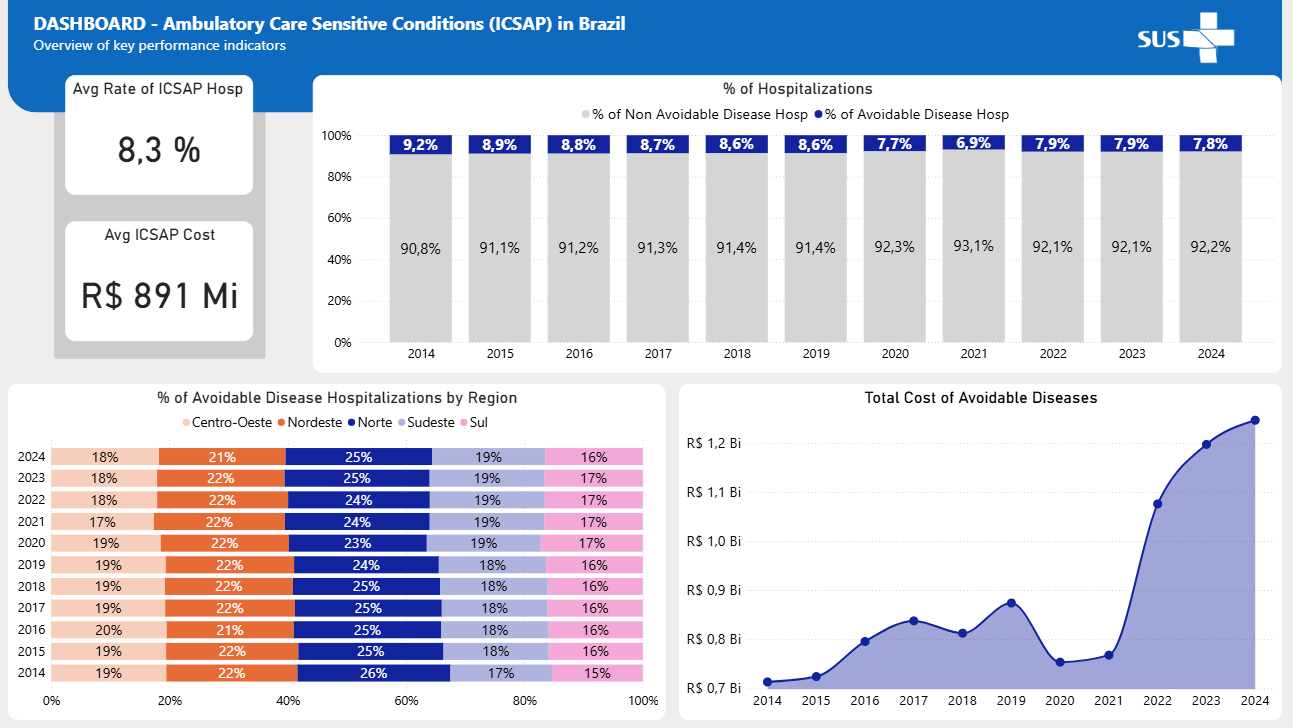

Layout of this report page (visuals, bound fields, positions):
{"tool":"powerbi","page":{"name":"Page 1","canvas":[1920,1080],"ordinal":0},"visuals":[{"type":"shape","box":[81.2,79,313.9,452.2],"z":0},{"type":"shape","box":[13.2,0,1887.8,166.8],"z":1000},{"type":"card","title":"Avg Rate of ICSAP Hosp","fields":{"Values":["Avg(sih_year.tx_avoidable_disease)"]},"box":[98.8,112,278.8,177.8],"z":2000},{"type":"card","title":"Avg ICSAP Cost","fields":{"Values":["Avg(sih_year.avoidable_disease_cost)"]},"box":[98.8,327.1,278.8,177.8],"z":3000},{"type":"hundredPercentStackedColumnChart","title":"% of Hospitalizations","fields":{"Category":["sih_year.year"],"Y":["Sum(sih_year.tx_non_avoidable_disease_hosp)","Sum(sih_year.tx_avoidable_disease)"]},"box":[465.4,112,1435.6,441.2],"z":4000},{"type":"hundredPercentStackedBarChart","title":"% of Avoidable Disease Hospitalizations by Region","fields":{"Category":["sih_region.year"],"Y":["Sum(sih_region.tx_avoidable_disease)"],"Series":["sih_region.big_region_name"]},"box":[13.2,568.5,974.6,498.3],"z":5000},{"type":"lineChart","title":"Total Cost of Avoidable Diseases","fields":{"Category":["sih_year.year"],"Y":["Sum(sih_year.avoidable_disease_cost)"]},"box":[1007.6,568.5,893.4,498.3],"z":6000},{"type":"textbox","box":[46.1,11,906.6,101],"z":7000},{"type":"image","box":[1679.3,0,160.2,112],"z":8000}]}

Visuals, with their boxes in screenshot pixels (x1, y1, x2, y2), scaled from the page's 1920x1080 canvas onto the 1293x728 screenshot:
shape: (x1=55, y1=53, x2=266, y2=358)
shape: (x1=9, y1=0, x2=1280, y2=112)
"Avg Rate of ICSAP Hosp" card: (x1=67, y1=75, x2=254, y2=195)
"Avg ICSAP Cost" card: (x1=67, y1=220, x2=254, y2=340)
"% of Hospitalizations" hundredPercentStackedColumnChart: (x1=313, y1=75, x2=1280, y2=373)
"% of Avoidable Disease Hospitalizations by Region" hundredPercentStackedBarChart: (x1=9, y1=383, x2=665, y2=719)
"Total Cost of Avoidable Diseases" lineChart: (x1=679, y1=383, x2=1280, y2=719)
textbox: (x1=31, y1=7, x2=642, y2=75)
image: (x1=1131, y1=0, x2=1239, y2=75)
